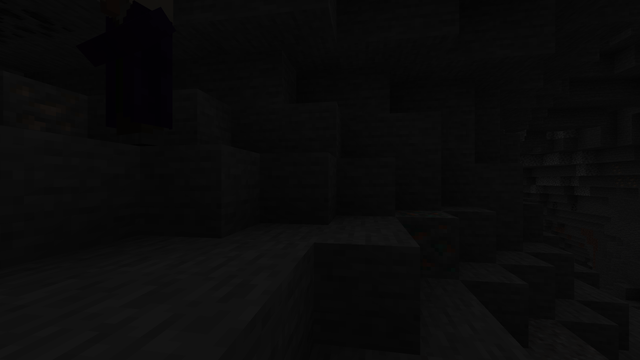sorcieres: (89, 1, 181, 149)
